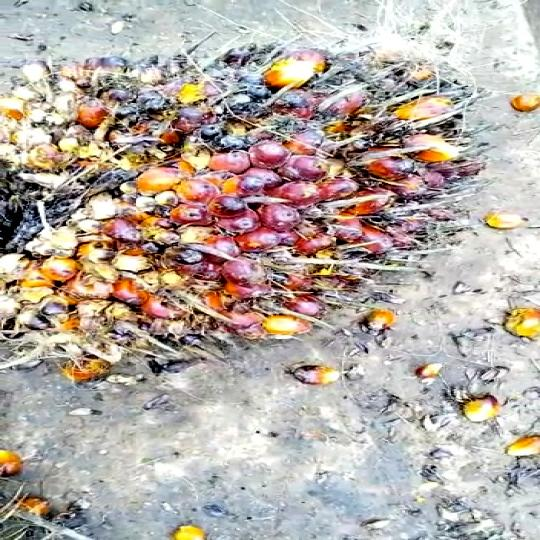masak: (0, 47, 483, 412)
